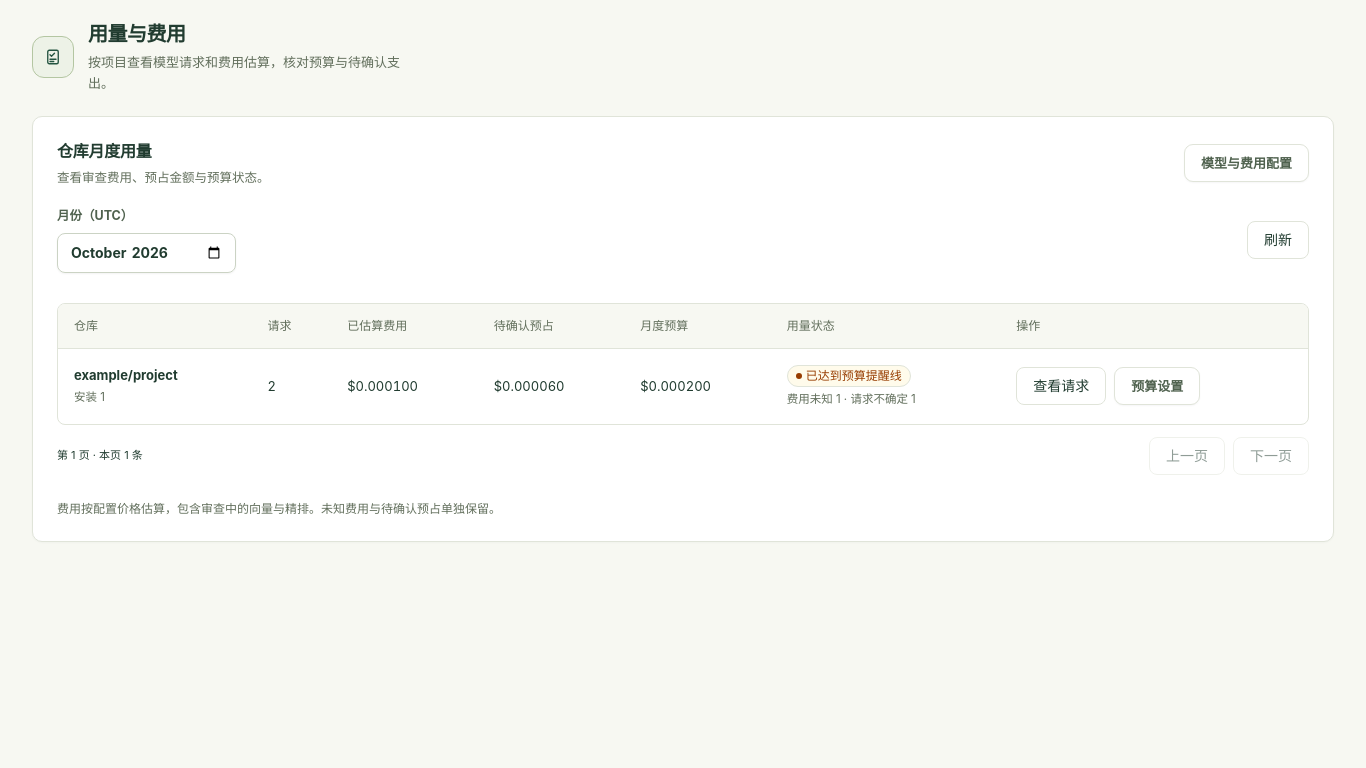
Test case: 缺少单价和缺少用量分别展示，HTTP 成功不会冒充费用已确认
The width and height of the screenshot is (1366, 768).
Click the button "查看请求" at (1061, 386), box x1=1016 y1=367 x2=1106 y2=405
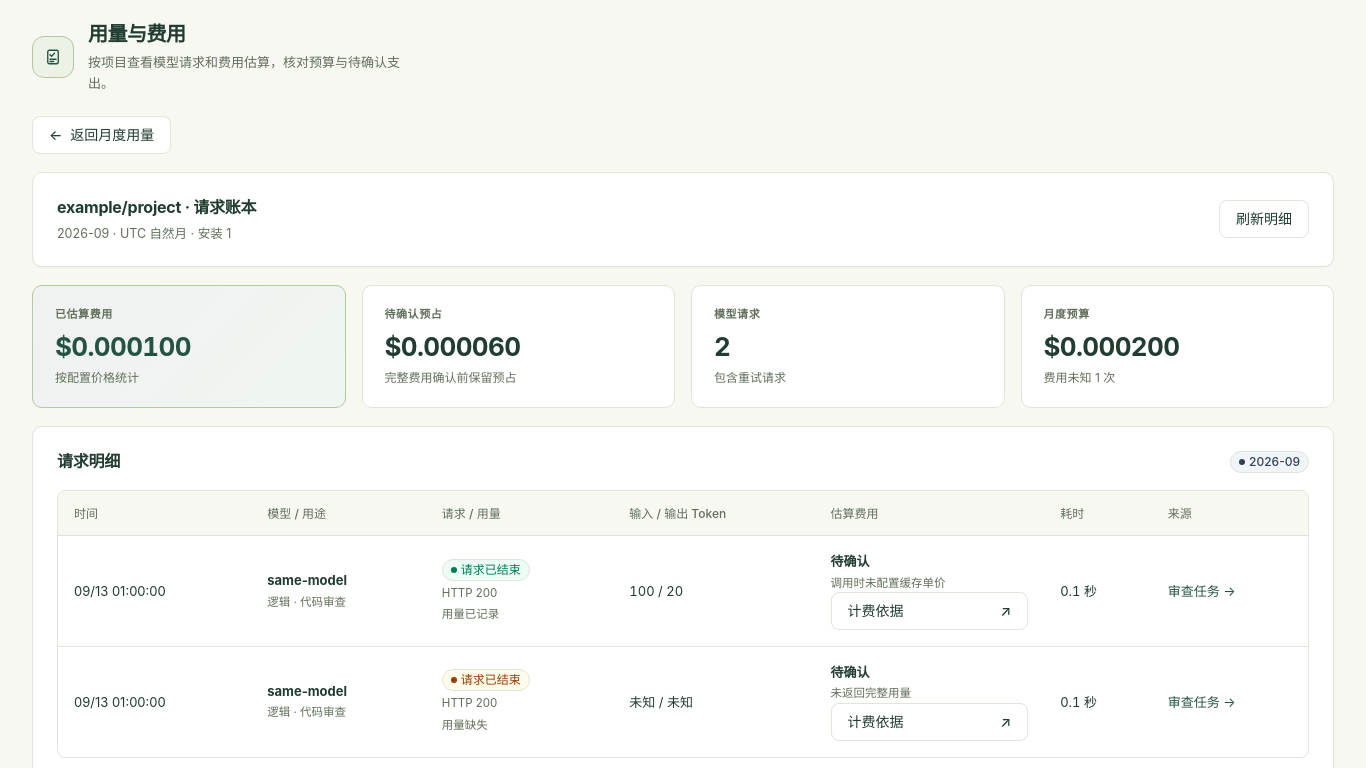
Check: the text "用量已记录" is shown, box x1=442 y1=607 x2=499 y2=621
Check: the 1st text "待确认" is shown, box x1=831 y1=553 x2=870 y2=569
Check: the text "HTTP 200" in the row of "未返回完整用量" is shown, box x1=442 y1=696 x2=497 y2=710
Click the button "计费依据 ↗" below "调用时未配置缓存单价" at (929, 611), box x1=831 y1=592 x2=1028 y2=630
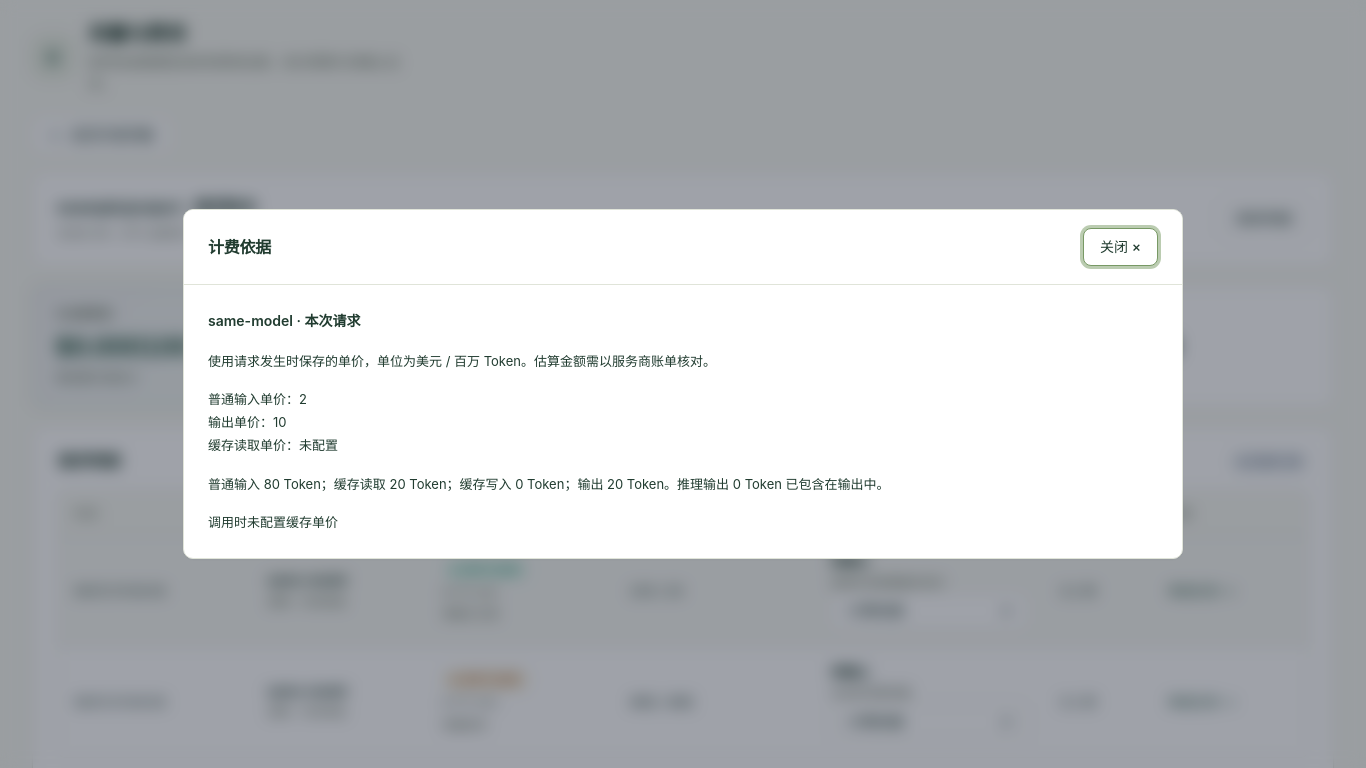
Check: the list item "普通输入单价：2" is shown, box x1=208 y1=391 x2=307 y2=407
Check: the list item "缓存读取单价：未配置" is shown, box x1=208 y1=437 x2=338 y2=453
Check: the text "普通输入 80 Token；缓存读取 20 Token" is shown, box x1=208 y1=476 x2=890 y2=492
